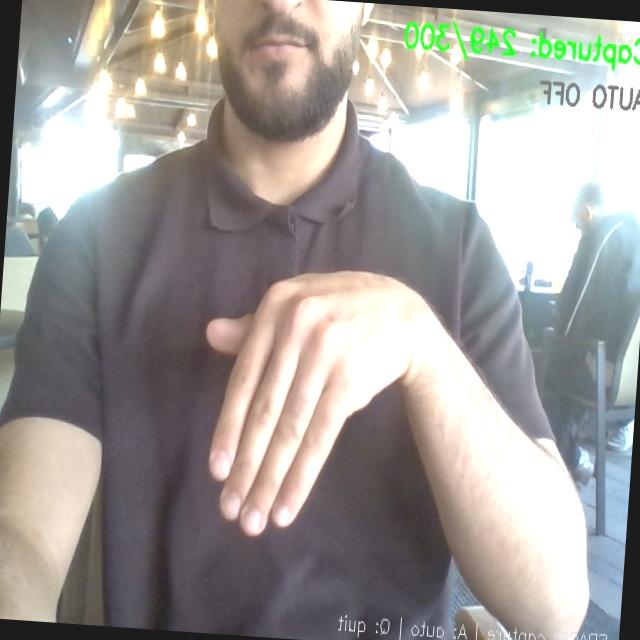Hand: (206, 272, 428, 535)
